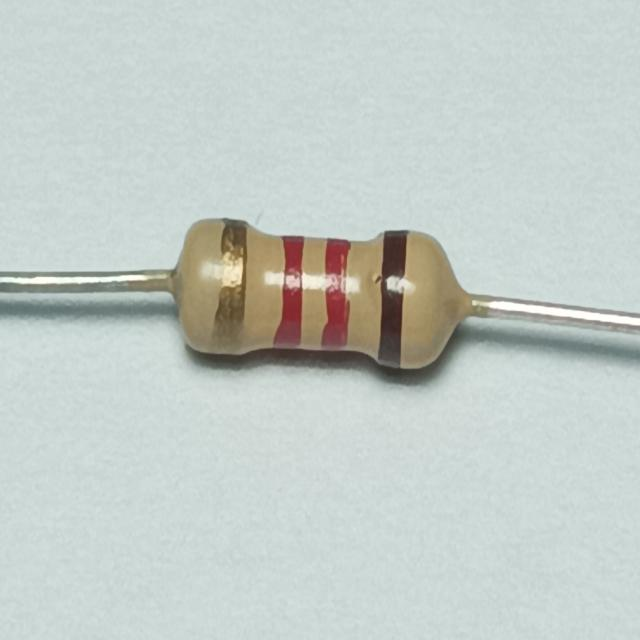1.2k ohms: (166, 205, 470, 407)
